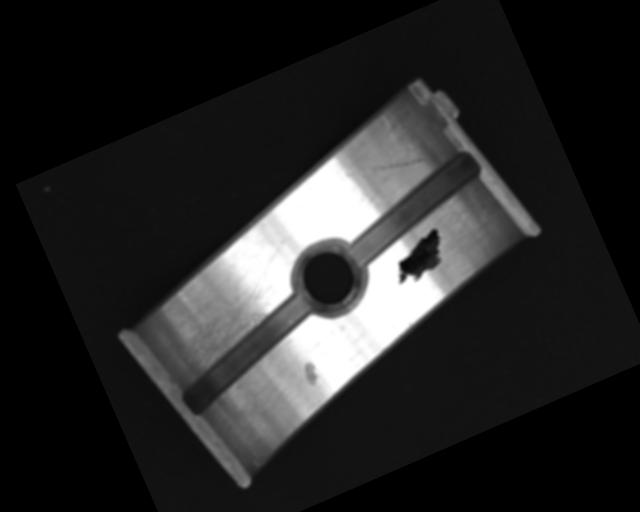blot: (383, 225, 453, 288)
bruise: (300, 359, 322, 388)
gap: (161, 287, 333, 418), (328, 148, 498, 270)
hole: (280, 232, 374, 326)
nick: (343, 139, 428, 193)
scratch: (144, 254, 307, 386)
